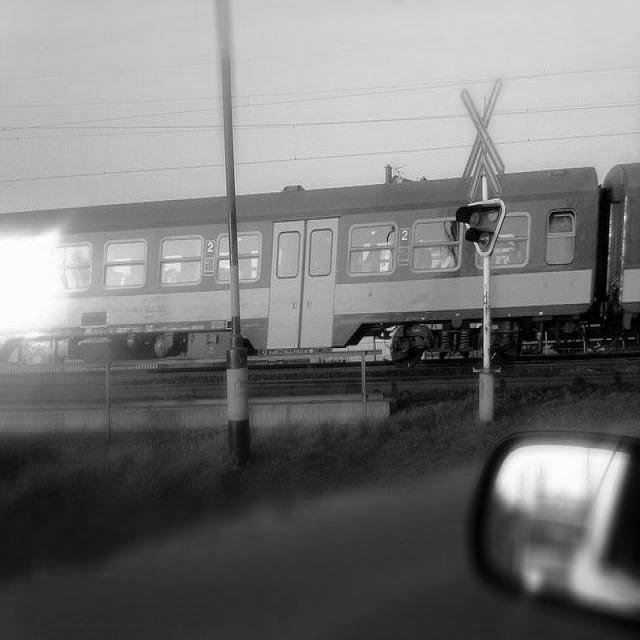vehicle: (470, 435, 640, 623)
